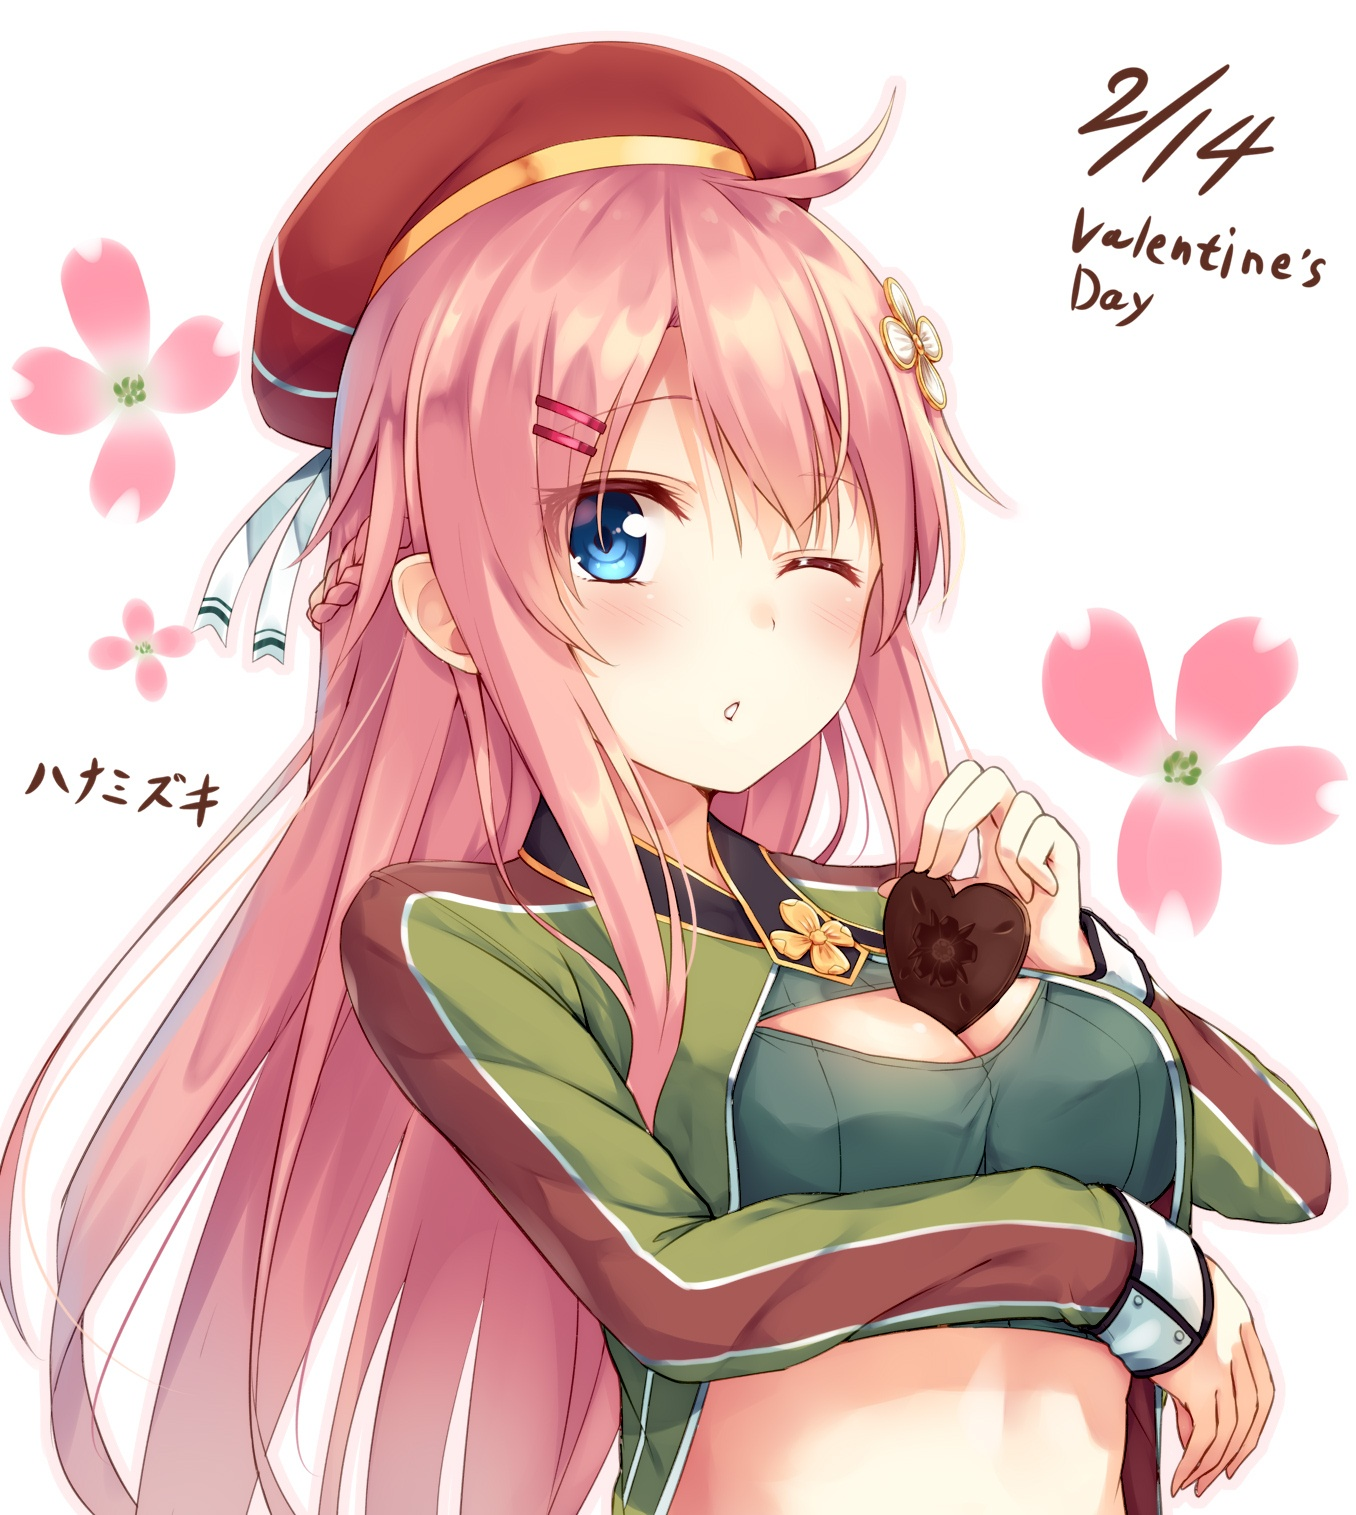纸片人正脸: (305, 33, 961, 809)
